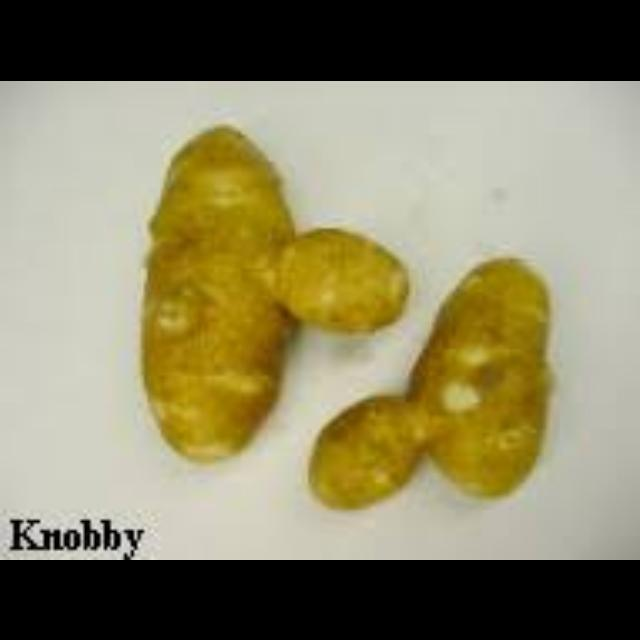Defected potato: (131, 108, 313, 478), (394, 245, 562, 510), (264, 218, 422, 342), (300, 385, 438, 515)
